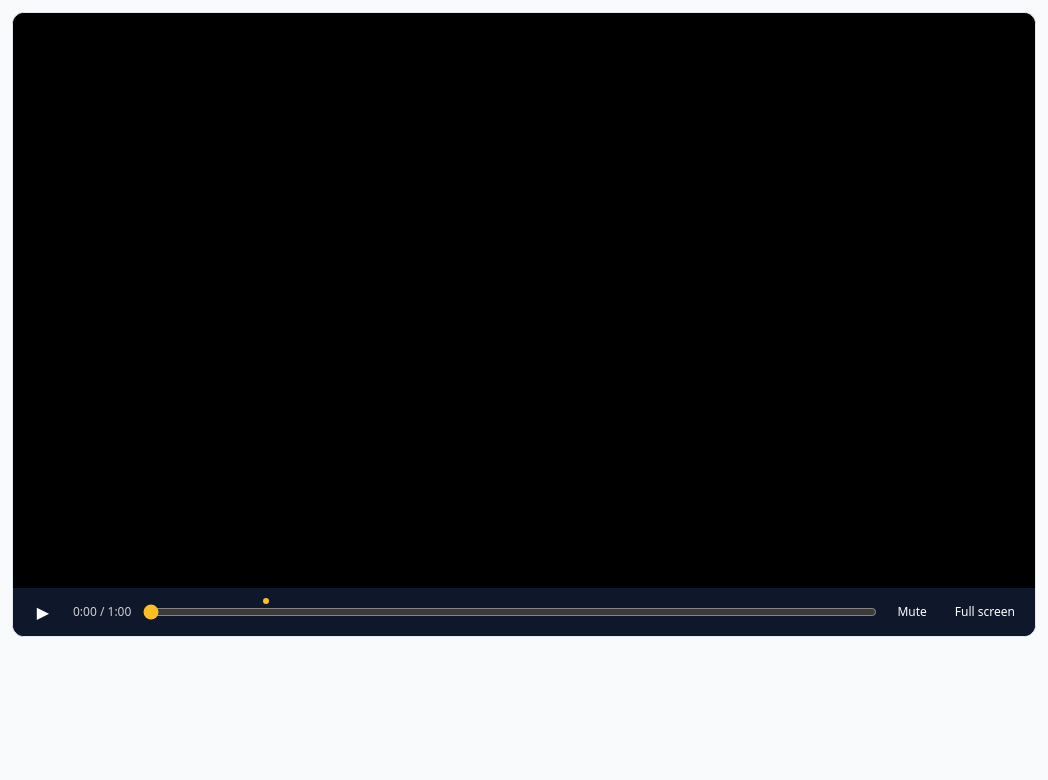
Scenario: InteractiveVideoPlayer › won't let the seek bar skip an unanswered required question
The width and height of the screenshot is (1048, 780).
Set the slider named "Seek" to "50" at (750, 612), box [143,604,877,620]
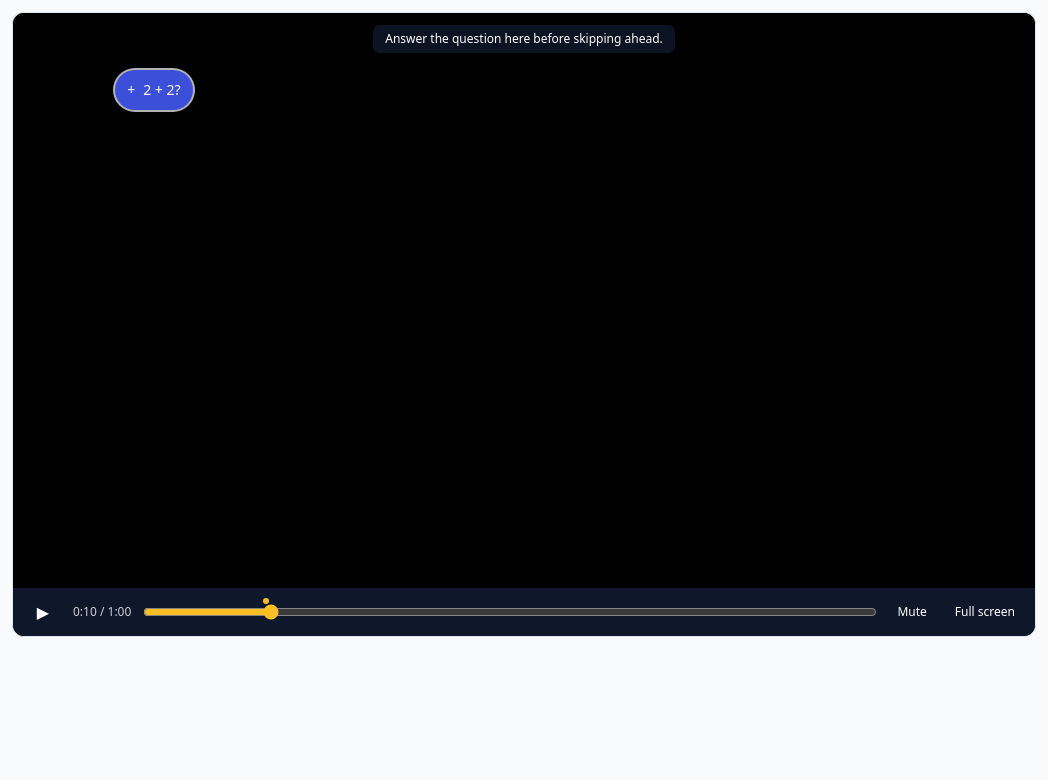
Now the text "Answer the question here before skipping ahead." is shown, box [373,25,675,53]
